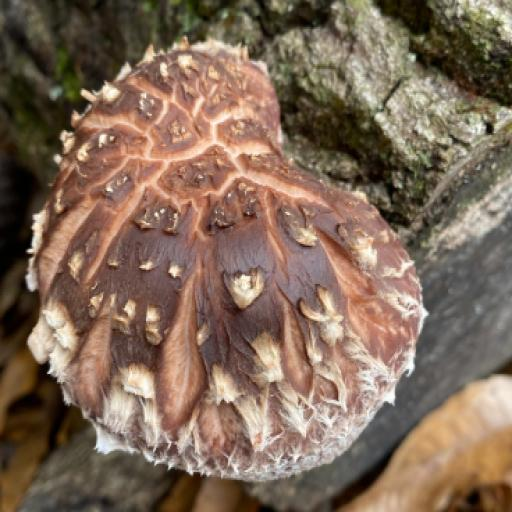Shiitake Mushroom: (42, 37, 411, 467)
